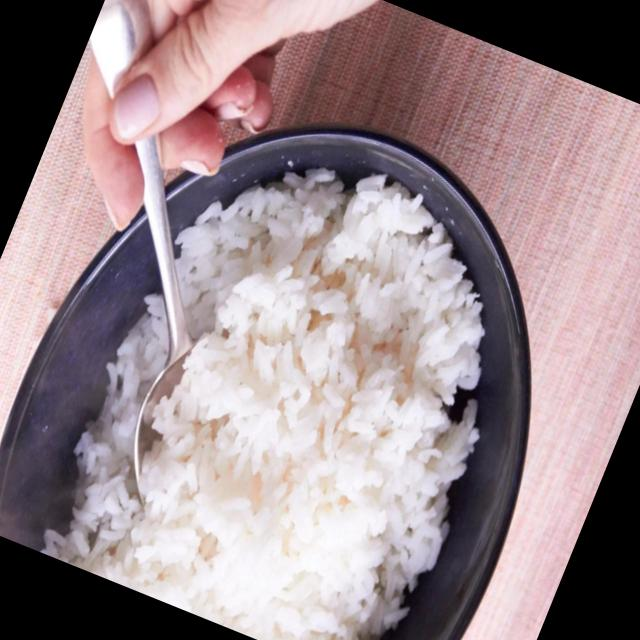rice: (42, 167, 481, 640)
